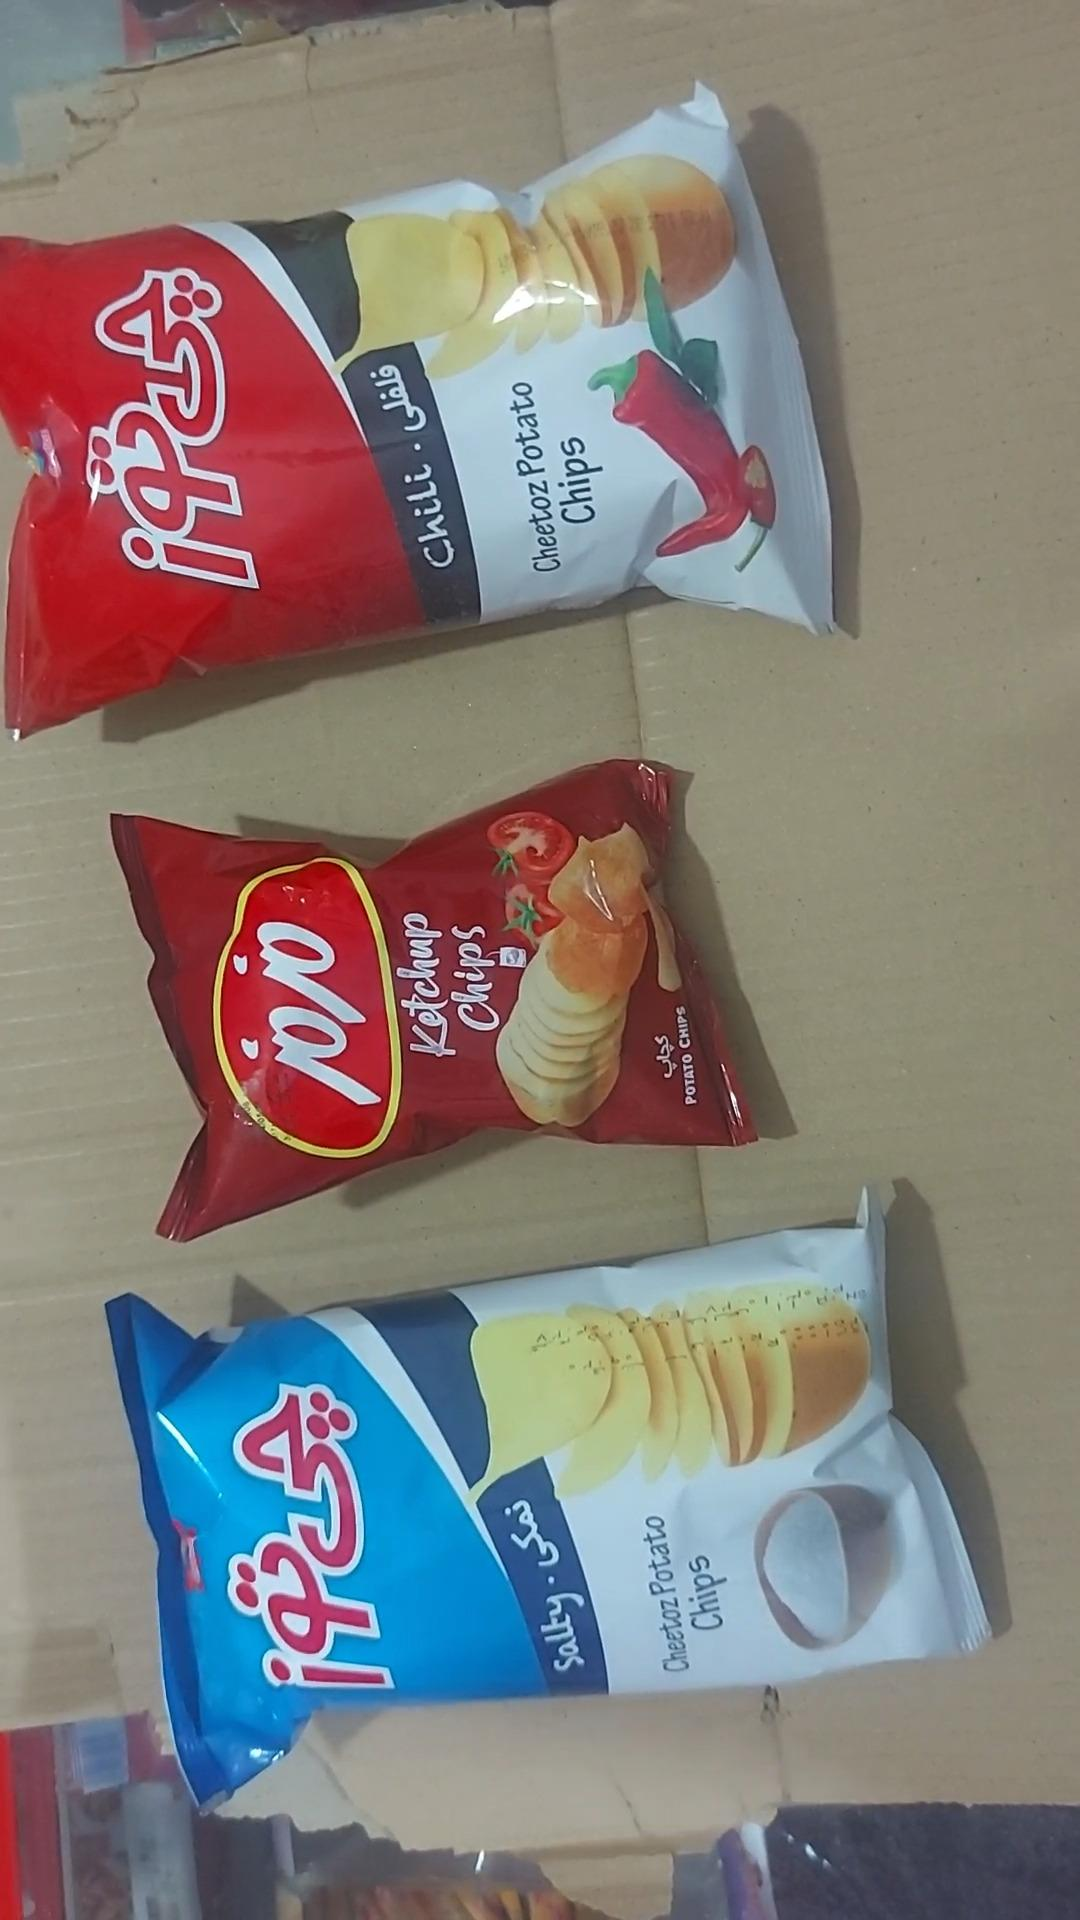Cheetoz chili chips: (0, 84, 839, 741)
Cheetoz salty chips: (102, 1191, 996, 1816)
Maz Maz ketchup chips: (105, 760, 758, 1246)
